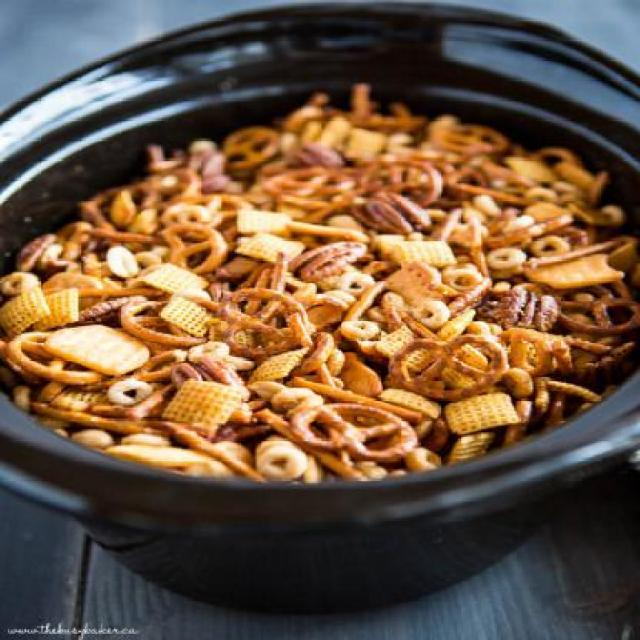Salatini packaged: (15, 90, 631, 472)
